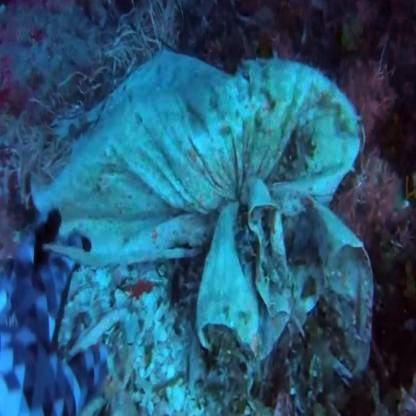plastic: (97, 86, 358, 305)
